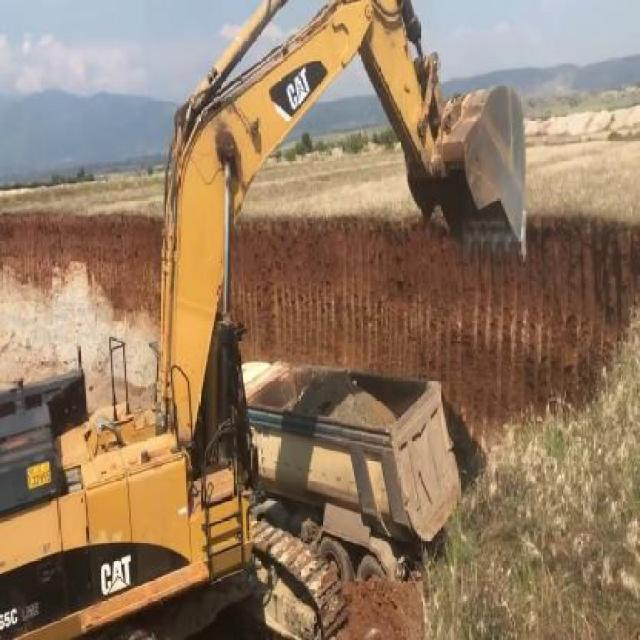dump_truck: (231, 356, 458, 567)
excavator: (0, 0, 529, 638)
